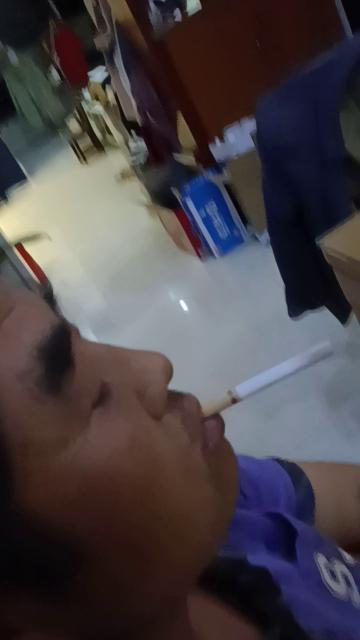Cigarette: (200, 340, 334, 420)
